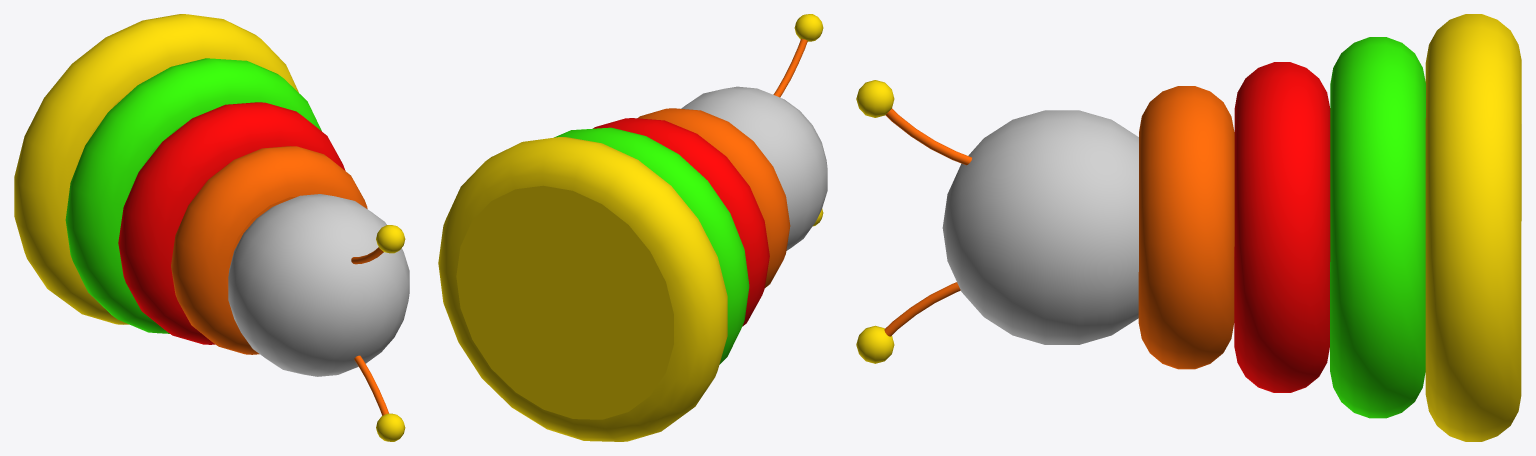
The model's file is smiley.obj.
3 views of the same model, side by side, from view 1: azimuth 30°, elevation 25°; view 2: azimuth 150°, elevation 25°; view 3: azimuth 270°, elevation 25° (orthographic). The views are drawn at different scales.
Parts seen in each view (by area): view 1: Sphere001_5, Arc001_1, Arc005_2, Arc006_3, Arc007_4, Sphere002_6, Sphere003_8, Cylinder001_7; view 2: Arc001_1, Sphere001_5, Arc005_2, Arc006_3, Arc007_4, Sphere003_8, Cylinder002_9; view 3: Arc001_1, Sphere001_5, Arc005_2, Arc006_3, Arc007_4, Sphere003_8, Sphere002_6, Cylinder002_9, Cylinder001_7.
Part boxes in pixels (bbox=[...]): Sphere001_5: bbox=[228, 194, 409, 376]; Arc001_1: bbox=[14, 14, 298, 324]; Arc005_2: bbox=[65, 58, 321, 333]; Arc006_3: bbox=[118, 102, 345, 344]; Arc007_4: bbox=[171, 146, 367, 354]; Sphere002_6: bbox=[376, 413, 405, 441]; Sphere003_8: bbox=[376, 225, 405, 253]; Cylinder001_7: bbox=[354, 355, 388, 415]; Arc001_1: bbox=[438, 137, 727, 441]; Sphere001_5: bbox=[681, 86, 827, 250]; Arc005_2: bbox=[554, 127, 749, 364]; Arc006_3: bbox=[593, 118, 769, 326]; Arc007_4: bbox=[637, 108, 790, 287]; Sphere003_8: bbox=[794, 14, 823, 41]; Cylinder002_9: bbox=[773, 38, 807, 97]; Arc001_1: bbox=[1425, 14, 1521, 441]; Sphere001_5: bbox=[942, 110, 1138, 344]; Arc005_2: bbox=[1330, 37, 1425, 418]; Arc006_3: bbox=[1234, 62, 1330, 392]; Arc007_4: bbox=[1138, 86, 1234, 369]; Sphere003_8: bbox=[856, 80, 894, 117]; Sphere002_6: bbox=[856, 325, 894, 363]; Cylinder002_9: bbox=[885, 108, 971, 165]; Cylinder001_7: bbox=[884, 282, 960, 336].
Bounding box in the file's own units: 13.4 × 13.42 × 20.86.
